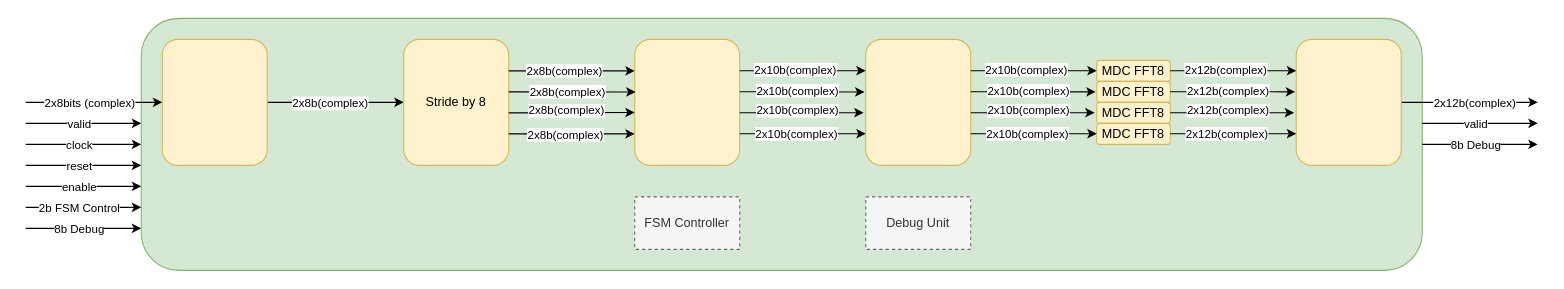
Some shapes in this 1564 by 289 pixel diagram are drawn without their labels. Here are the shapes that lost their labels. From the top down, the centre of each, then its label:
the point at 214,101: Overlap & Save
the point at 687,101: Parallel FFT4
the point at 918,101: Twiddle Interface
the point at 1348,101: Serializer
